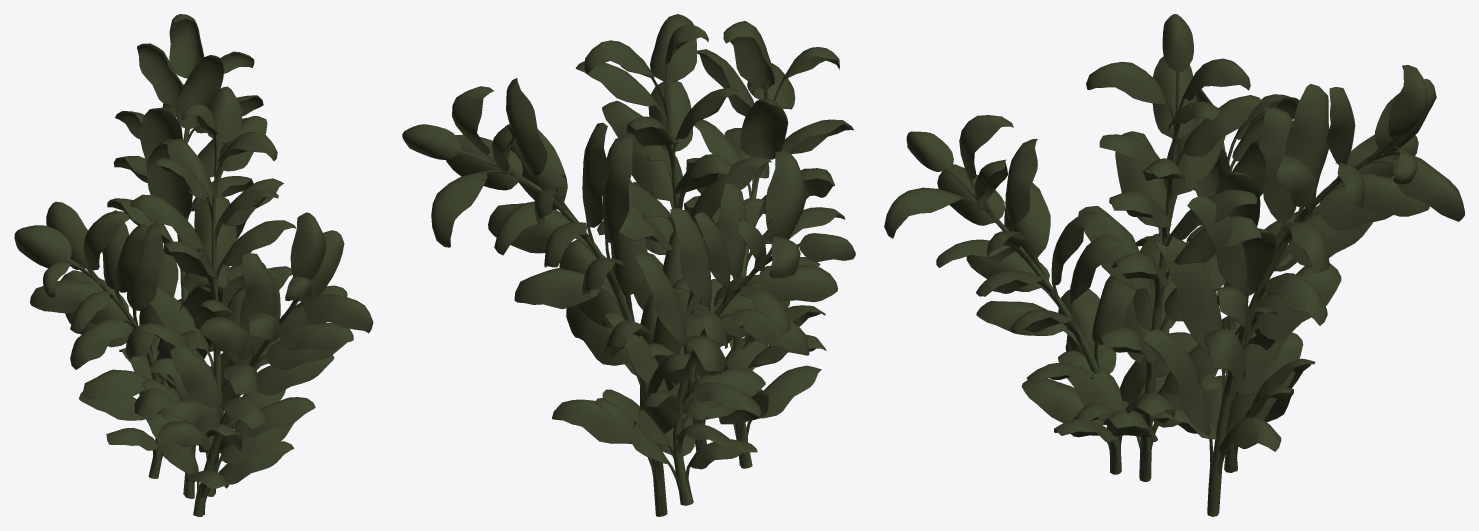
File: basil.glb
The picture shows the model from 3 angles, left to right: view 1: azimuth 30°, elevation 25°; view 2: azimuth 150°, elevation 25°; view 3: azimuth 270°, elevation 25°; orthographic projection. The views are drawn at different scales.
Parts seen in each view (by area): view 1: basil 13032021 008; view 2: basil 13032021 008; view 3: basil 13032021 008.
Part boxes in pixels (<box>): basil 13032021 008: <box>14,14,373,516</box>; basil 13032021 008: <box>402,14,855,516</box>; basil 13032021 008: <box>884,14,1464,516</box>.
Size of the model in its own units: 0.2607 by 0.3433 by 0.3671.
